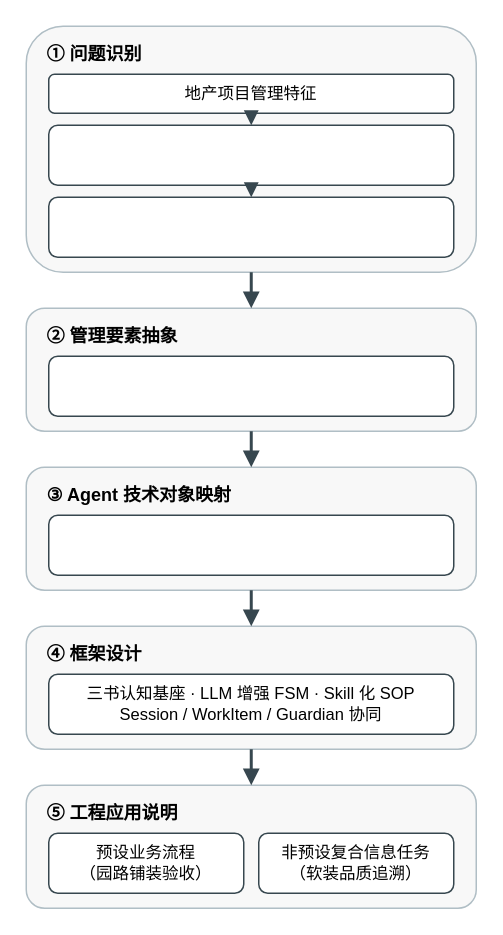
This 503x935 diagram has some shape labels left out. Here are the shapes that lost their labels. From the top down, the centre of each, then its label:
At point 250,154: "状态动态 · 信息多源 流程标准化 · 权责明确".
At point 250,226: "传统数字化与个人 AI 的协同缺口".
At point 250,385: "项目状态 · 过程事件 · 项目资料 组织规则 · 业务流程 · 人员关系 · 系统能力".
At point 250,544: "状态空间 · 公共认知对象 能力单元 · 工作项 · 核验任务".
